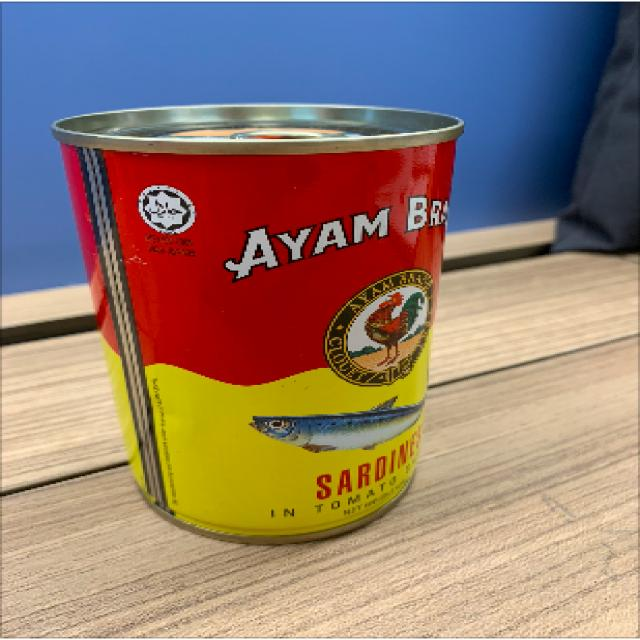object_name: (63, 110, 448, 546)
